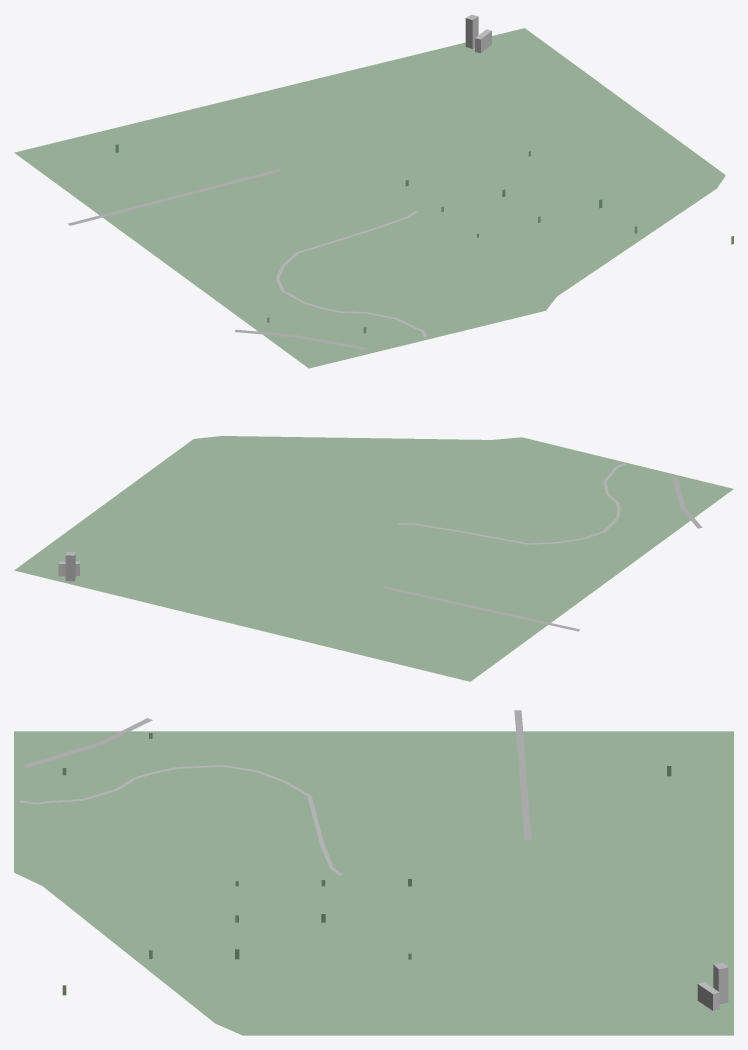
3 renders of one model, top to bottom at view 1: azimuth 30°, elevation 25°; view 2: azimuth 150°, elevation 25°; view 3: azimuth 270°, elevation 25°, orthographic. The views are drawn at different scales.
Bounding box in the file's own units: 533 × 27.87 × 500.
